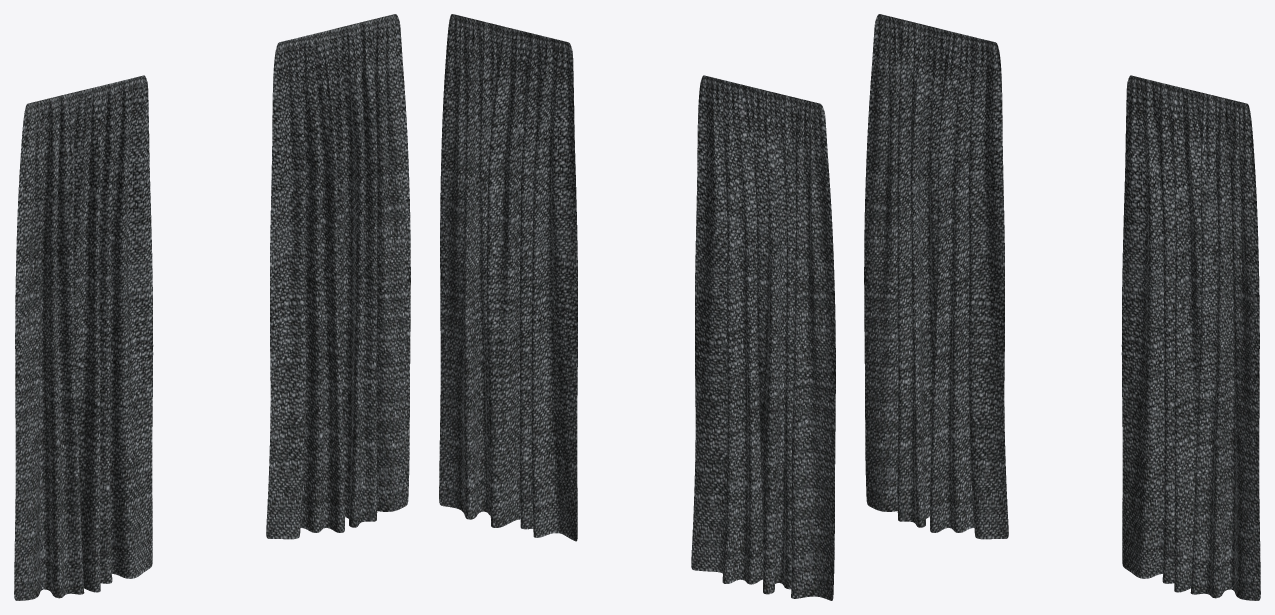
Rendered from Curtain.fbx.
3 renders of one model, left to right at view 1: azimuth 30°, elevation 25°; view 2: azimuth 150°, elevation 25°; view 3: azimuth 330°, elevation 25°, orthographic.
Parts seen in each view (by area): view 1: curtain 1, curtain 3; view 2: curtain 3, curtain 1; view 3: curtain 3, curtain 1.
Boxes of the visible parts, left/top/right/bottom form: curtain 1: left=266, top=14, right=410, bottom=539; curtain 3: left=14, top=75, right=153, bottom=600; curtain 3: left=691, top=75, right=835, bottom=600; curtain 1: left=439, top=14, right=577, bottom=541; curtain 3: left=864, top=14, right=1008, bottom=539; curtain 1: left=1121, top=75, right=1260, bottom=600.
Size of the model in its own units: 181 by 218 by 13.
Materials: 1 (1 with a texture image).
